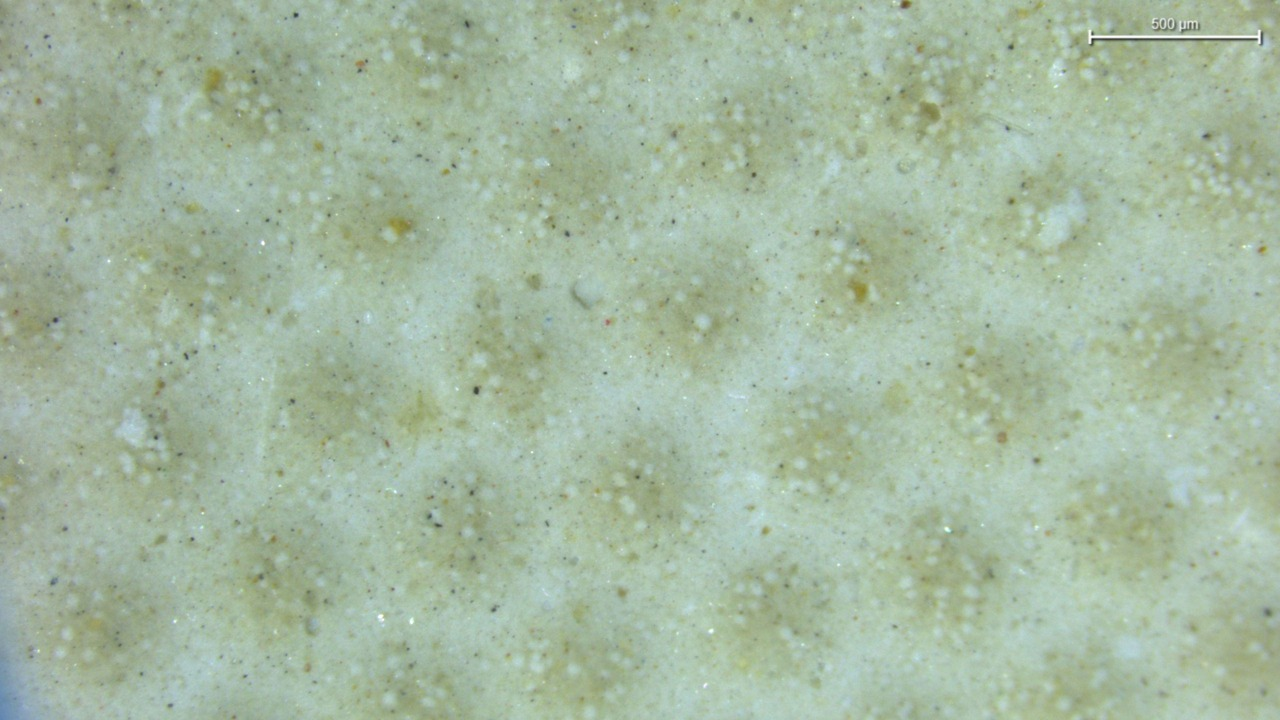microplastic_fragment: (571, 274, 606, 307)
